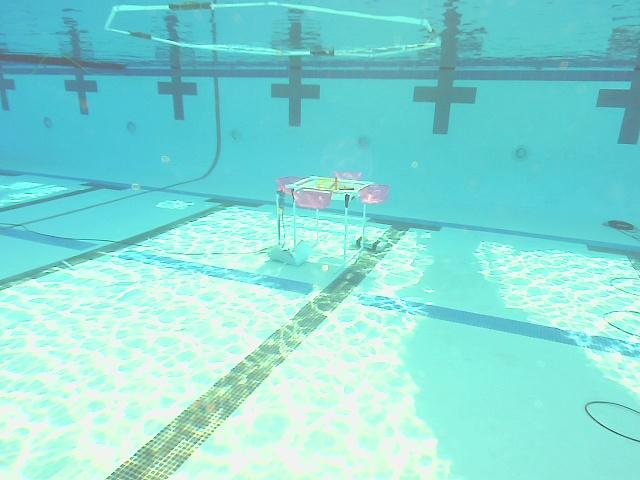table: (276, 170, 391, 266)
